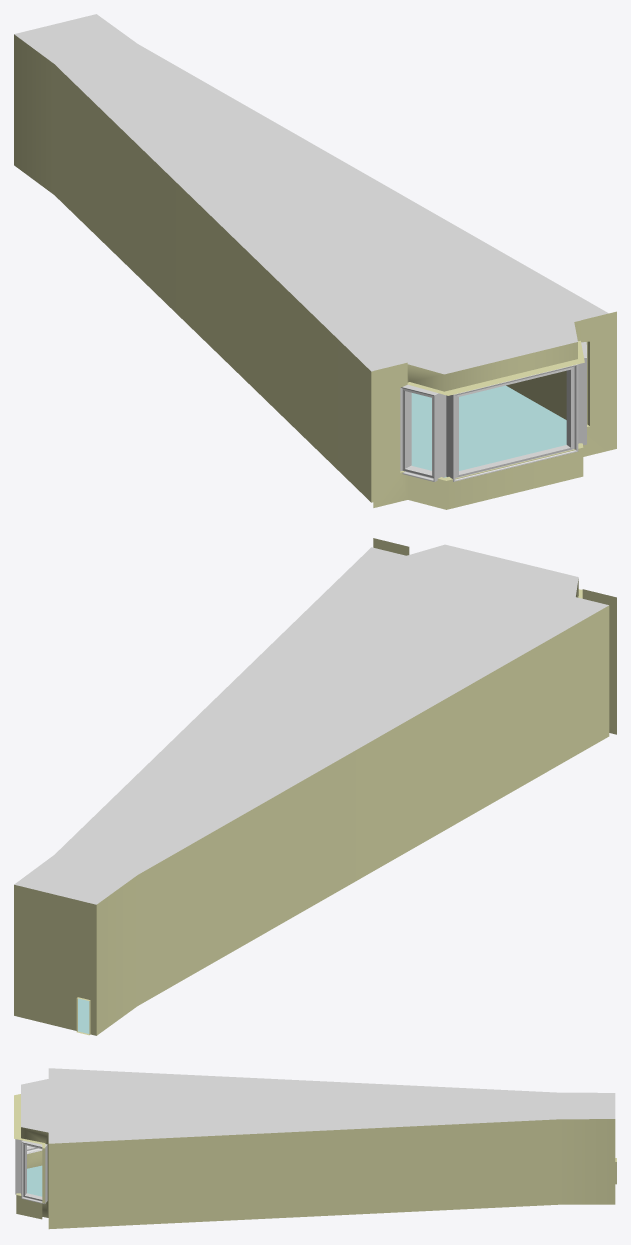
Rendered from KitchenRoom_mar10.fbx.
The picture shows the model from 3 angles, top to bottom: view 1: azimuth 30°, elevation 25°; view 2: azimuth 150°, elevation 25°; view 3: azimuth 270°, elevation 25°; orthographic projection. The views are drawn at different scales.
Parts seen in each view (by area): view 1: pCube107, polySurface454; view 2: pCube107; view 3: pCube107, polySurface454.
Part boxes in pixels (x1=…): pCube107: x1=14, y1=14, x2=616, y2=509; polySurface454: x1=400, y1=342, x2=586, y2=481; pCube107: x1=14, y1=538, x2=616, y2=1035; pCube107: x1=14, y1=1068, x2=616, y2=1229; polySurface454: x1=15, y1=1139, x2=47, y2=1204.
Size of the model in its own units: 14.74 by 7.94 by 48.54.
